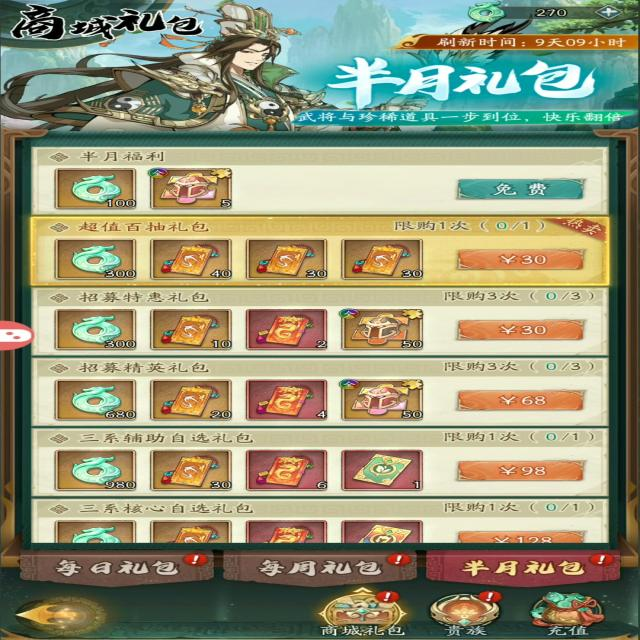hint-reddot: (571, 552, 622, 567), (466, 588, 502, 604), (375, 588, 415, 602), (174, 552, 205, 569), (379, 552, 419, 565)
operation-DailyGiftPack: (6, 550, 219, 592)
operation-HalfMonthGiftPack: (440, 549, 620, 585)
operation-ShoppingMallGift: (308, 585, 417, 639)
operation-Vip: (424, 591, 518, 635)
operation-WeeklyGiftPack: (231, 549, 397, 586)
operation-back: (0, 601, 97, 633)
operation-buy: (452, 313, 596, 346), (446, 241, 594, 272), (444, 171, 590, 200), (464, 382, 587, 416), (446, 454, 585, 481), (454, 524, 583, 542)
operation-recharge: (532, 590, 604, 639)
ref-buytext: (69, 432, 253, 448), (67, 500, 249, 516), (66, 358, 208, 378), (67, 218, 212, 237), (65, 290, 231, 306), (69, 150, 164, 167)
